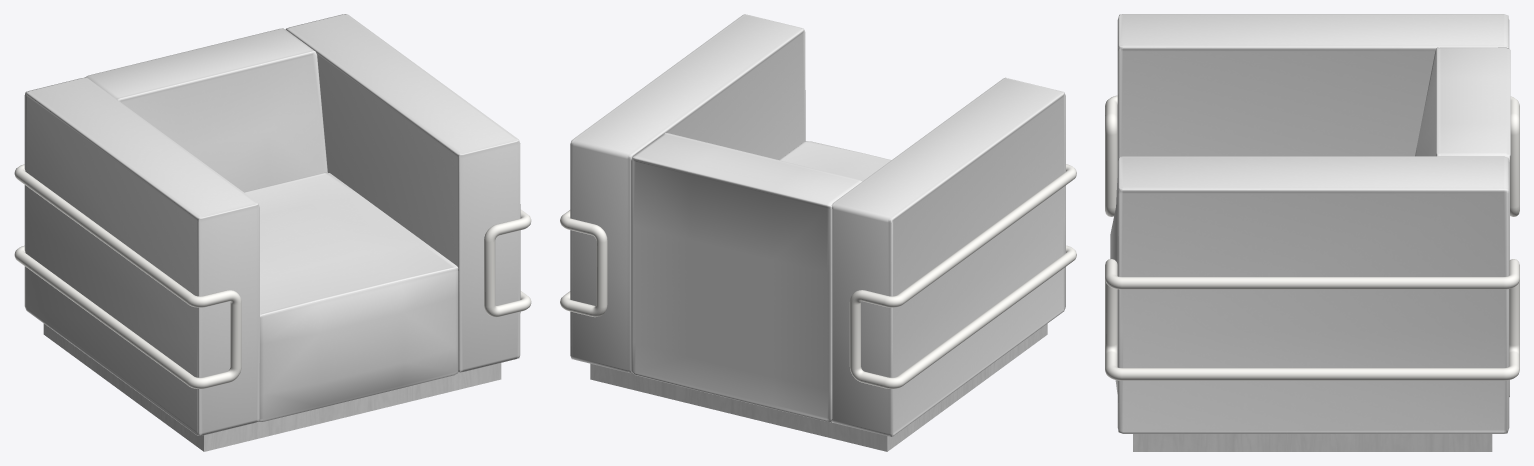
Rendered from Sofa08_2.FBX.
3 views of the same model, side by side, from view 1: azimuth 30°, elevation 25°; view 2: azimuth 150°, elevation 25°; view 3: azimuth 270°, elevation 25° (orthographic). The views are drawn at different scales.
Parts seen in each view (by area): view 1: Sofa08_2; view 2: Sofa08_2; view 3: Sofa08_2.
Boxes of the visible parts, bbox=[...] form: Sofa08_2: bbox=[14, 14, 531, 451]; Sofa08_2: bbox=[560, 14, 1076, 451]; Sofa08_2: bbox=[1105, 14, 1519, 451].
Size of the model in its own units: 166 by 112 by 155.
